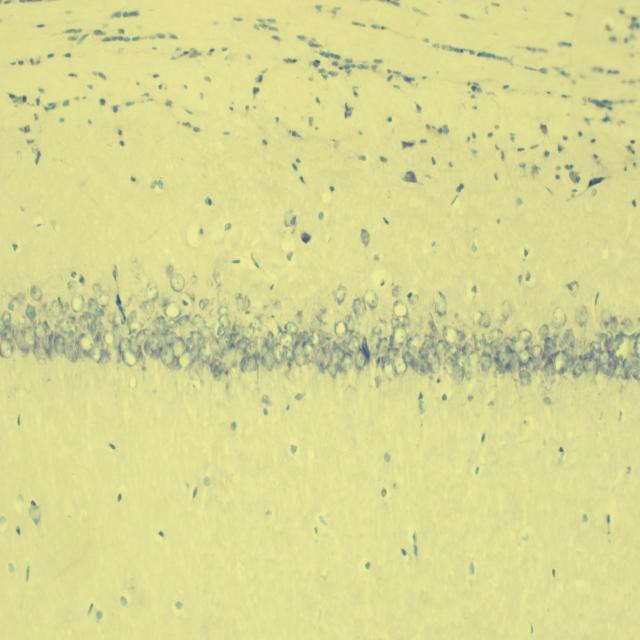neuron: (12, 327, 30, 355), (381, 354, 396, 384), (551, 350, 569, 375), (392, 354, 408, 380), (198, 338, 212, 366), (582, 356, 598, 380), (22, 323, 37, 348), (433, 290, 447, 316), (472, 309, 491, 328), (598, 350, 612, 375), (121, 347, 138, 367), (392, 298, 409, 318), (512, 337, 532, 354), (78, 333, 94, 354), (293, 340, 305, 368), (164, 300, 182, 318), (178, 346, 192, 369), (552, 306, 566, 329), (574, 305, 588, 328), (352, 298, 368, 318), (339, 352, 354, 373), (302, 340, 315, 364), (490, 338, 509, 354), (70, 293, 85, 313), (328, 352, 340, 377), (443, 325, 458, 345), (0, 338, 14, 359), (146, 279, 159, 301), (334, 284, 347, 306), (473, 332, 486, 354), (95, 288, 110, 307), (364, 289, 378, 309), (172, 336, 185, 357), (240, 356, 257, 372), (170, 274, 185, 292), (346, 336, 361, 354), (33, 342, 47, 361), (64, 344, 78, 363), (103, 330, 117, 349), (107, 345, 121, 364), (355, 348, 366, 372), (543, 355, 555, 377), (89, 344, 102, 364), (147, 332, 160, 352), (262, 351, 275, 371), (190, 331, 205, 348), (50, 299, 64, 317), (334, 320, 348, 338), (331, 347, 345, 365), (394, 327, 408, 345), (498, 348, 510, 369), (563, 328, 575, 349), (33, 320, 46, 339), (245, 340, 258, 359), (54, 334, 65, 356), (273, 342, 284, 364), (140, 298, 155, 314), (444, 356, 456, 376), (518, 328, 533, 344), (118, 337, 132, 354), (197, 325, 214, 339), (280, 331, 294, 348), (321, 329, 335, 346), (487, 328, 504, 342), (543, 337, 557, 354), (416, 359, 429, 377), (88, 298, 99, 319), (481, 352, 492, 373), (112, 324, 124, 343), (286, 344, 295, 369), (406, 334, 421, 349), (464, 364, 479, 379), (236, 295, 250, 311), (572, 362, 585, 379), (164, 344, 174, 366), (321, 350, 332, 370), (430, 352, 440, 374), (502, 299, 512, 321), (30, 284, 42, 302), (422, 338, 434, 356), (508, 356, 520, 374), (568, 280, 580, 298), (191, 314, 206, 328), (284, 321, 299, 335), (218, 316, 231, 332), (235, 338, 248, 354), (242, 325, 255, 341), (250, 316, 263, 332), (519, 370, 531, 387), (630, 358, 640, 378), (125, 310, 136, 328), (453, 363, 464, 381), (136, 328, 148, 344), (164, 329, 176, 345), (158, 292, 170, 308), (468, 351, 480, 367), (232, 317, 242, 336), (219, 333, 230, 350), (601, 309, 612, 326), (530, 344, 543, 358), (42, 333, 52, 351), (154, 316, 164, 334), (266, 330, 275, 350), (424, 310, 434, 328), (518, 349, 530, 364), (59, 318, 70, 334), (435, 339, 446, 355), (2, 310, 12, 327), (396, 316, 410, 328), (409, 318, 417, 339), (456, 353, 467, 368), (462, 342, 473, 357), (79, 315, 89, 331), (309, 318, 319, 334), (316, 345, 324, 365), (404, 350, 414, 366), (67, 280, 79, 293), (150, 347, 162, 360), (297, 330, 309, 343), (449, 344, 462, 356), (590, 341, 602, 354), (67, 320, 78, 334), (525, 356, 534, 373), (605, 330, 613, 349), (47, 346, 56, 362), (26, 304, 35, 320), (228, 344, 237, 360), (346, 314, 354, 332), (177, 314, 190, 325), (418, 347, 428, 361), (610, 316, 618, 333), (129, 343, 141, 354), (218, 306, 230, 317), (4, 320, 12, 336), (483, 342, 491, 358), (614, 364, 622, 380), (494, 368, 505, 379), (166, 319, 178, 329), (166, 264, 174, 279), (200, 298, 210, 310), (372, 325, 382, 337), (409, 293, 419, 305), (539, 324, 549, 336), (138, 351, 145, 368), (8, 297, 17, 310), (144, 340, 151, 356), (392, 282, 399, 298), (112, 314, 122, 325), (15, 292, 24, 304), (90, 319, 97, 334), (374, 376, 382, 389), (567, 355, 575, 368), (390, 318, 399, 329), (615, 334, 624, 345), (536, 356, 543, 369), (92, 283, 102, 292), (68, 314, 76, 324), (97, 307, 105, 317), (541, 351, 548, 362), (635, 342, 640, 357), (82, 311, 91, 319), (230, 333, 236, 344), (306, 335, 314, 343), (67, 330, 74, 339), (64, 302, 69, 314), (217, 326, 221, 336)
